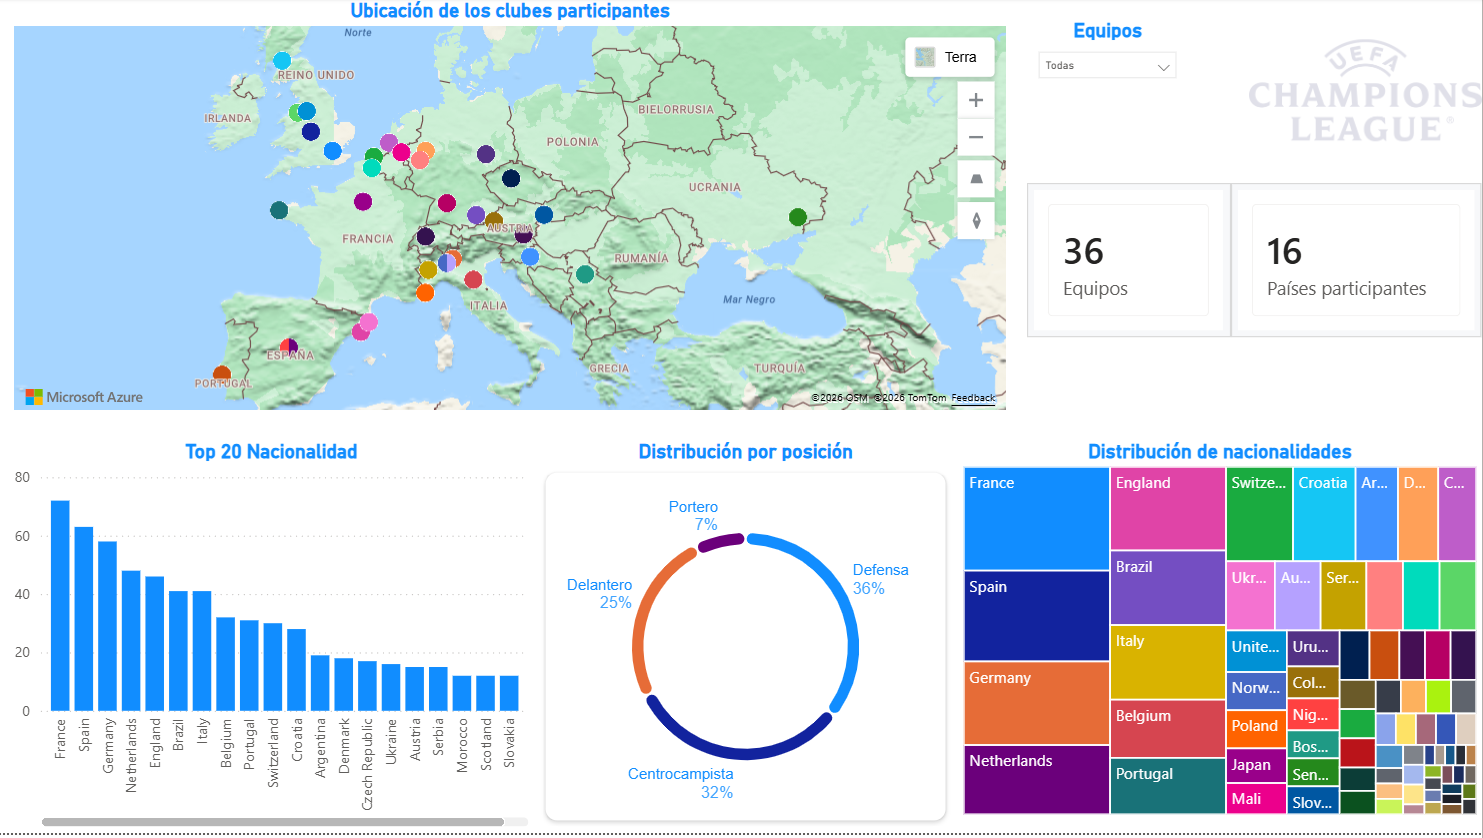

The page's visual inventory and layout, read from the dashboard file:
{"tool":"powerbi","page":{"name":"Página 1","canvas":[1280,720],"ordinal":0},"visuals":[{"type":"columnChart","title":"Top 20 Nacionalidad","fields":{"Category":["jugadores.country_name"],"Y":["CountNonNull(jugadores.country_name)"]},"box":[9.8,380.5,452.9,339.4],"z":1000},{"type":"image","box":[1079,8.6,201,142],"z":2000},{"type":"treemap","title":"Distribución de nacionalidades","fields":{"Values":["CountNonNull(jugadores.country_name)"],"Group":["jugadores.country_name"]},"box":[828,380.5,452,328.7],"z":3000},{"type":"slicer","title":"Equipos","fields":{"Values":["equipos.nombre_equipo"]},"box":[887.9,17,139.3,125.1],"z":4000},{"type":"cardVisual","fields":{"Data":["equipos.Equipos"]},"box":[887.9,159.9,176,133.1],"z":5000},{"type":"cardVisual","fields":{"Data":["equipos.contador_paises"]},"box":[1063.8,159.9,216.2,133.1],"z":7000},{"type":"donutE4A86F3675B84D178C45F7E034E25D6A","title":"Distribución por posición","fields":{"key":["jugadores.Posicion General"],"metric":["Count(jugadores.player)"]},"box":[462.7,380.5,365.3,339.4],"z":8000},{"type":"azureMap","title":"Ubicación de los clubes participantes","fields":{"Category":["equipos.ciudad"],"Series":["equipos.nombre_equipo"]},"box":[8.9,0,866.4,360],"z":8001}]}

Visuals, with their boxes in screenshot pixels (x1, y1, x2, y2), scaled from the page's 1280x720 canvas onto the 1483x838 screenshot:
"Top 20 Nacionalidad" columnChart: left=11, top=443, right=536, bottom=837
image: left=1250, top=10, right=1482, bottom=175
"Distribución de nacionalidades" treemap: left=959, top=443, right=1482, bottom=825
"Equipos" slicer: left=1029, top=20, right=1190, bottom=165
cardVisual - equipos.Equipos: left=1029, top=186, right=1233, bottom=341
cardVisual - equipos.contador_paises: left=1233, top=186, right=1482, bottom=341
"Distribución por posición" donutE4A86F3675B84D178C45F7E034E25D6A: left=536, top=443, right=959, bottom=837
"Ubicación de los clubes participantes" azureMap: left=10, top=0, right=1014, bottom=419
